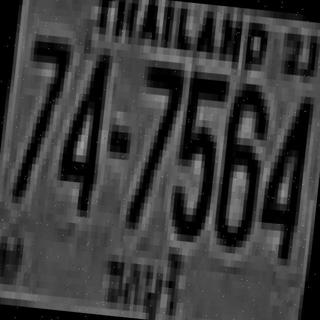N04: (54, 41, 111, 208), (255, 90, 311, 256)
N05: (167, 63, 228, 237)
N06: (212, 75, 270, 248)
N07: (10, 30, 70, 197), (125, 59, 182, 225)
P13: (96, 234, 190, 320)
